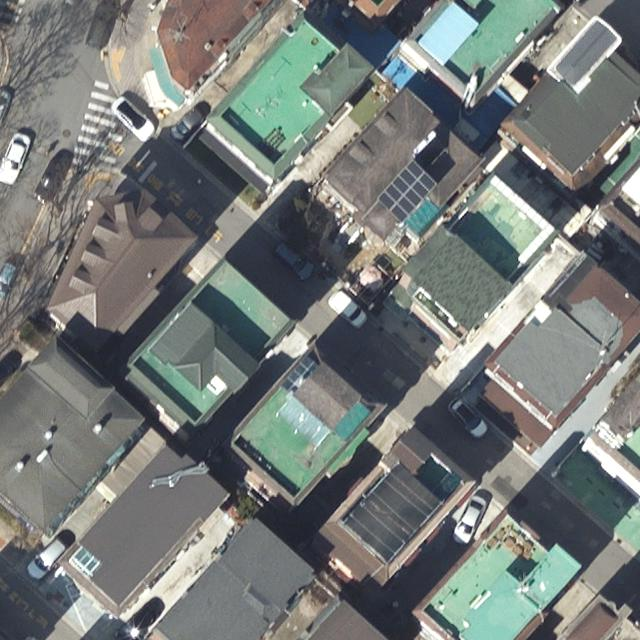solar: (375, 158, 441, 225)
